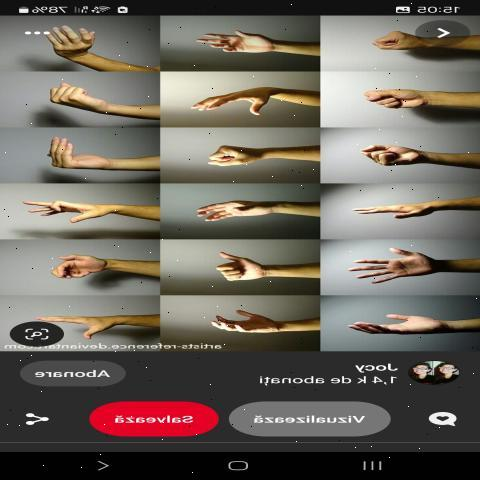Hands: (326, 239, 476, 295), (172, 72, 316, 119), (10, 191, 151, 238), (337, 298, 478, 341), (337, 184, 472, 228), (169, 192, 304, 235), (175, 298, 314, 338), (179, 18, 318, 57), (27, 135, 145, 174), (30, 303, 154, 340), (34, 247, 146, 287)
